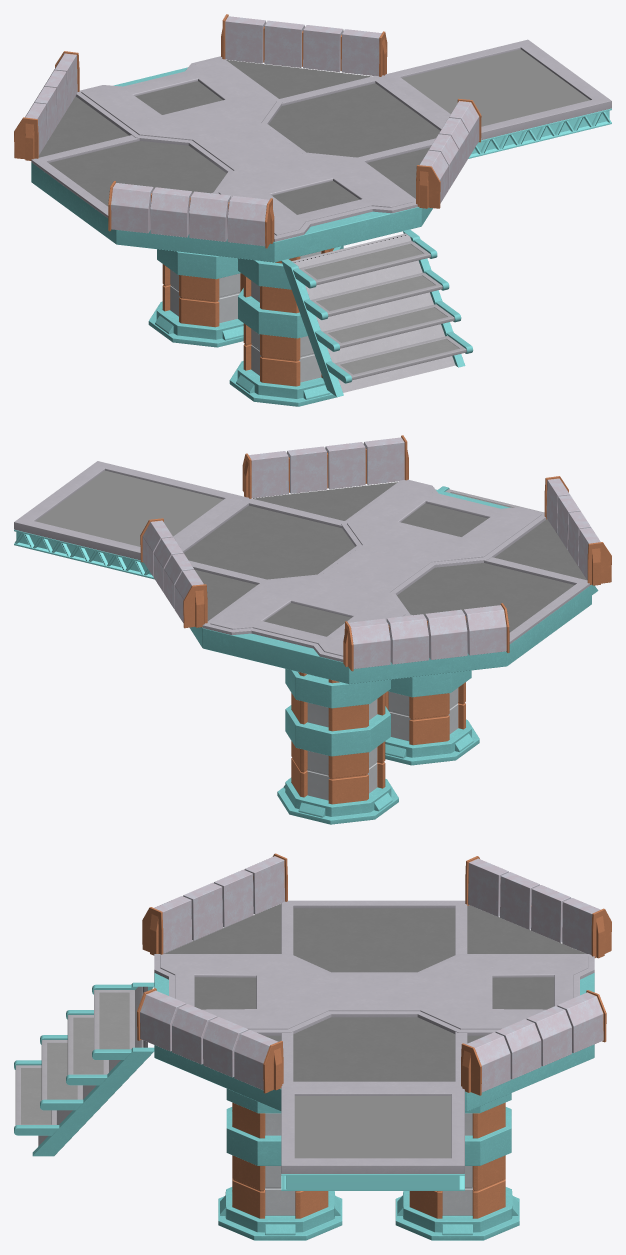
The model's file is Platform.gltf.
The picture shows the model from 3 angles, top to bottom: view 1: azimuth 30°, elevation 25°; view 2: azimuth 150°, elevation 25°; view 3: azimuth 270°, elevation 25°; orthographic projection. The views are drawn at different scales.
Visible parts, largest first — view 1: Platform_Base, Platform_Railing (×4), Platform_Stairs, Platform_Pillar (×2), Platform_Bridge; view 2: Platform_Base, Platform_Railing (×4), Platform_Pillar (×2), Platform_Bridge; view 3: Platform_Base, Platform_Railing (×4), Platform_Pillar (×2), Platform_Bridge, Platform_Stairs.
Part boxes in pixels (<box>): Platform_Base: <box>31,56,444,262</box>; Platform_Railing (×4): <box>14,14,481,248</box>; Platform_Stairs: <box>281,229,473,396</box>; Platform_Pillar (×2): <box>148,246,343,406</box>; Platform_Bridge: <box>382,39,611,158</box>; Platform_Base: <box>179,479,591,684</box>; Platform_Railing (×4): <box>140,435,611,671</box>; Platform_Pillar (×2): <box>277,668,479,824</box>; Platform_Bridge: <box>14,461,244,579</box>; Platform_Base: <box>154,900,594,1111</box>; Platform_Railing (×4): <box>137,853,611,1095</box>; Platform_Pillar (×2): <box>218,1089,519,1240</box>; Platform_Bridge: <box>281,1086,464,1190</box>; Platform_Stairs: <box>14,982,154,1156</box>.
Bounding box in the file's own units: 10.13 × 4.57 × 9.4.
14 materials, 12 textured.
